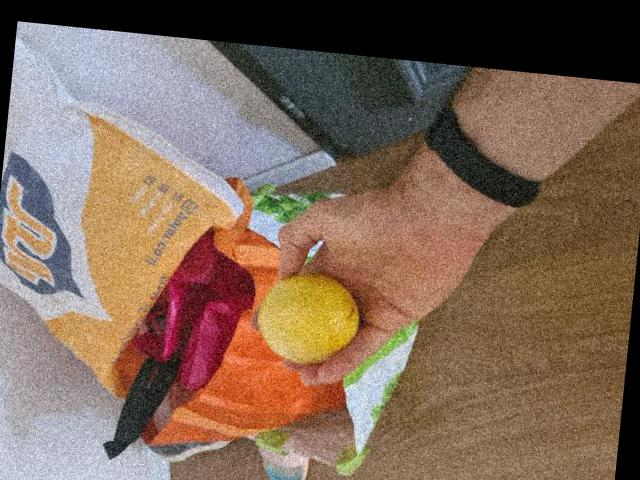lemon: (254, 270, 367, 360)
